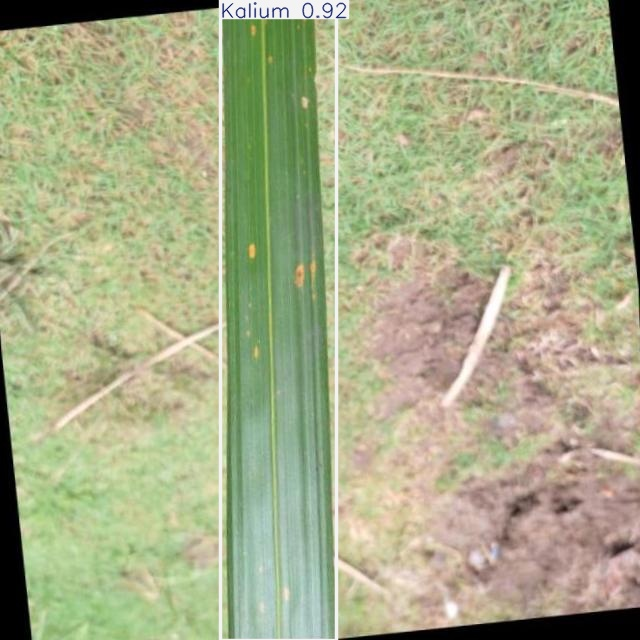Kalium: (220, 0, 336, 640)
